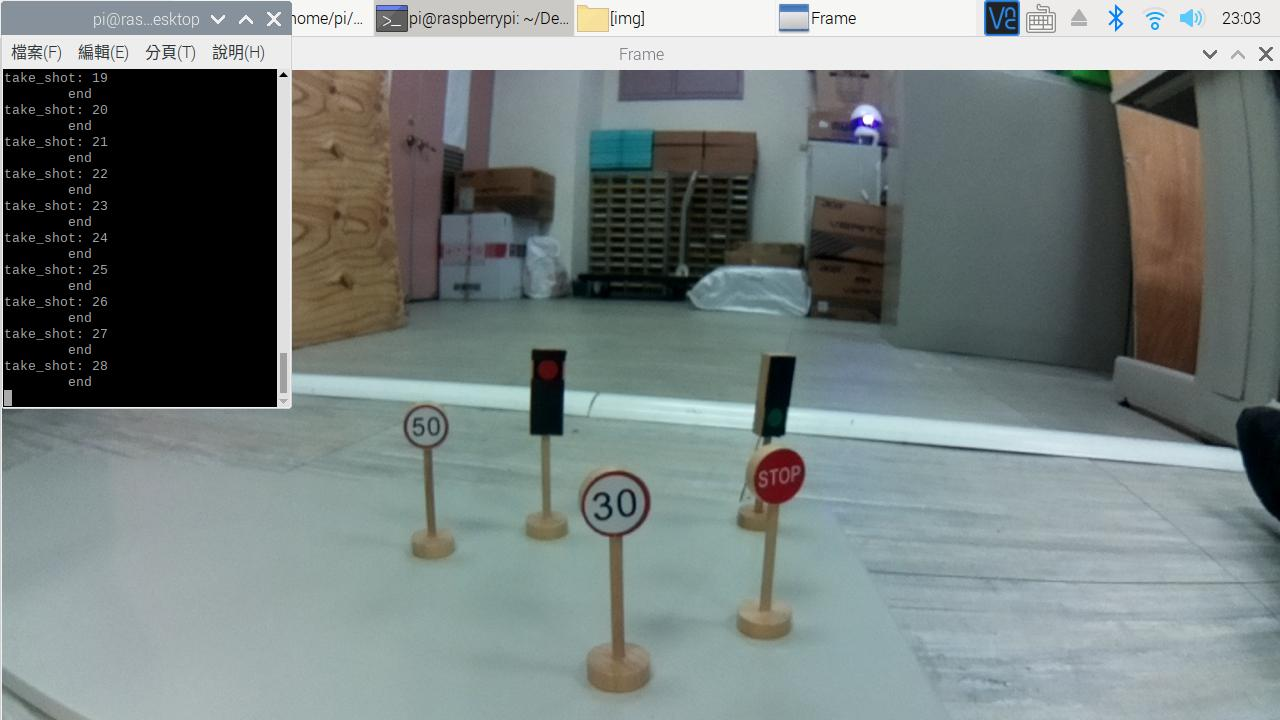Green: (762, 352, 789, 436)
Red: (532, 347, 562, 435)
Speed30: (576, 469, 654, 535)
Speed50: (398, 404, 453, 447)
Stop: (751, 449, 803, 499)
